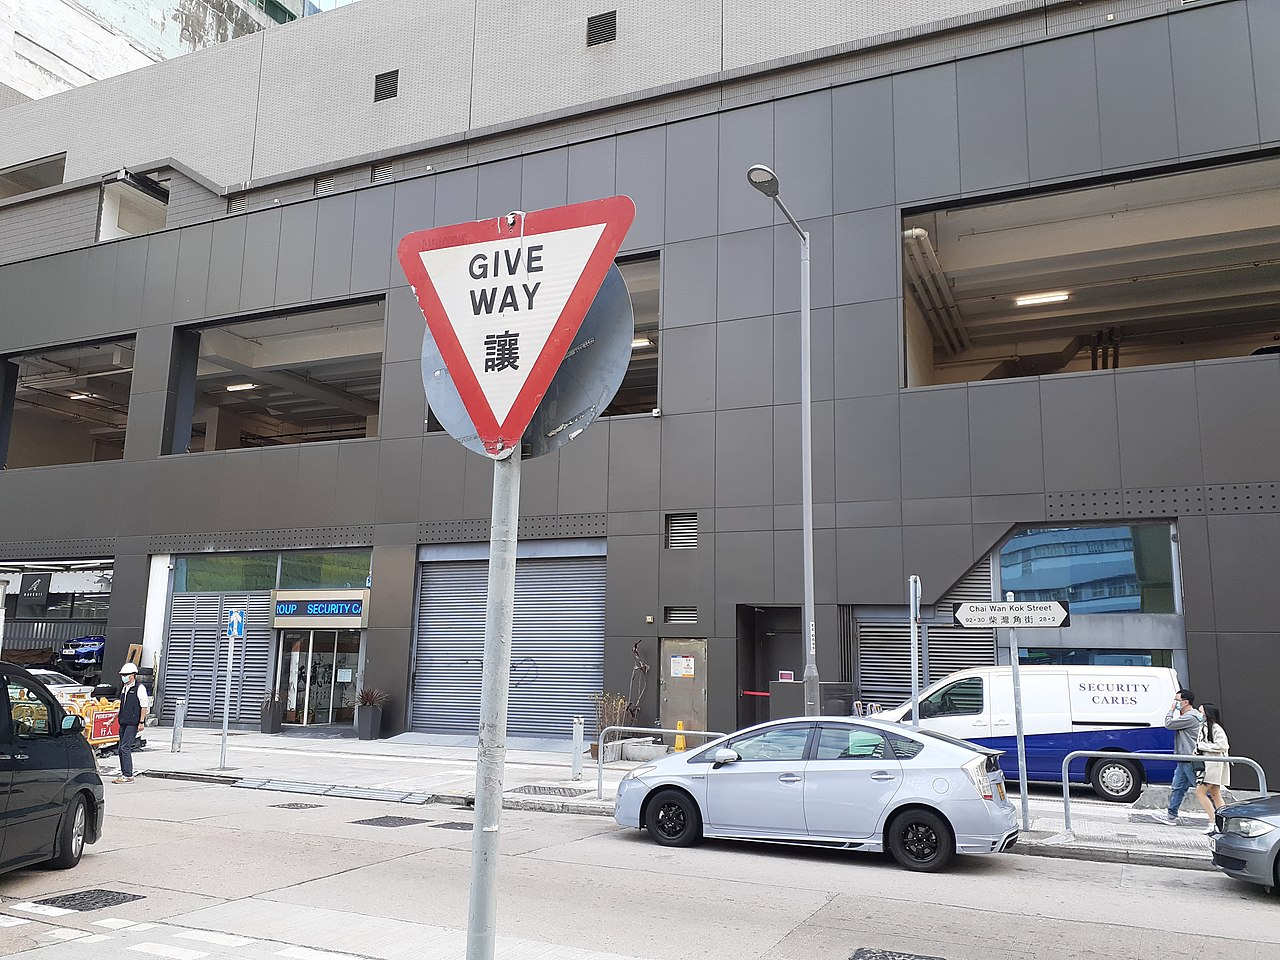Give Way: (397, 198, 644, 455)
